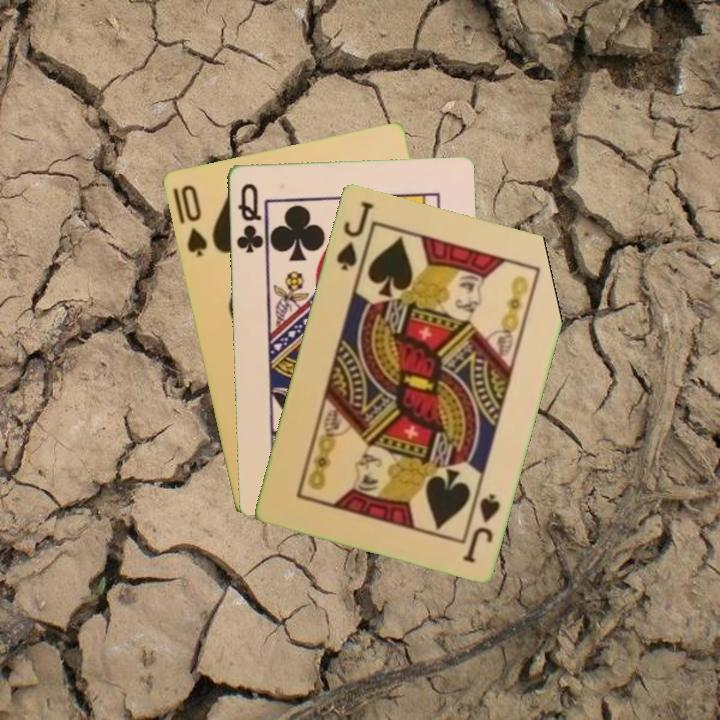10s: (177, 181, 210, 259)
Js: (458, 489, 503, 565), (332, 197, 376, 273)
Qc: (233, 179, 266, 256)
